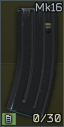FN SCAR-L 5.56x45 30-round magazine: (0, 0, 64, 127)
